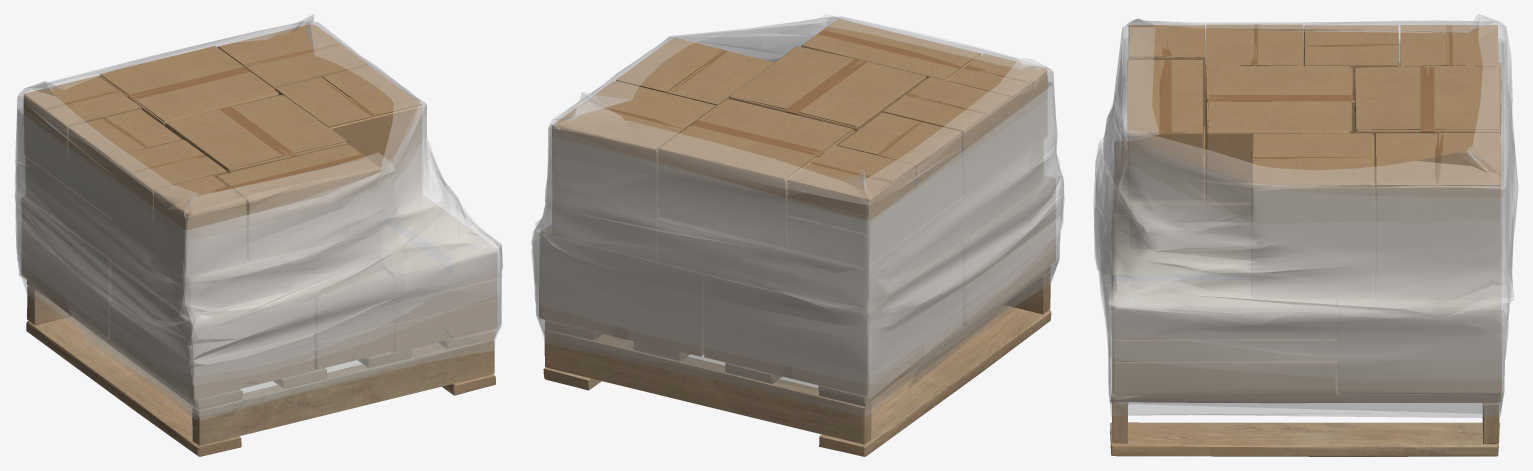
The model's file is pallet_load_foil.glb.
The picture shows the model from 3 angles, left to right: view 1: azimuth 30°, elevation 25°; view 2: azimuth 150°, elevation 25°; view 3: azimuth 270°, elevation 25°; orthographic projection. The views are drawn at different scales.
Parts seen in each view (by area): view 1: pallet_load_foil_mesh; view 2: pallet_load_foil_mesh; view 3: pallet_load_foil_mesh.
Part boxes in pixels (<box>): pallet_load_foil_mesh: <box>14,14,502,456</box>; pallet_load_foil_mesh: <box>531,14,1064,456</box>; pallet_load_foil_mesh: <box>1093,14,1518,456</box>.
Size of the model in its own units: 0.6628 by 0.4994 by 0.6575.
Materials: 4 (3 with a texture image).
